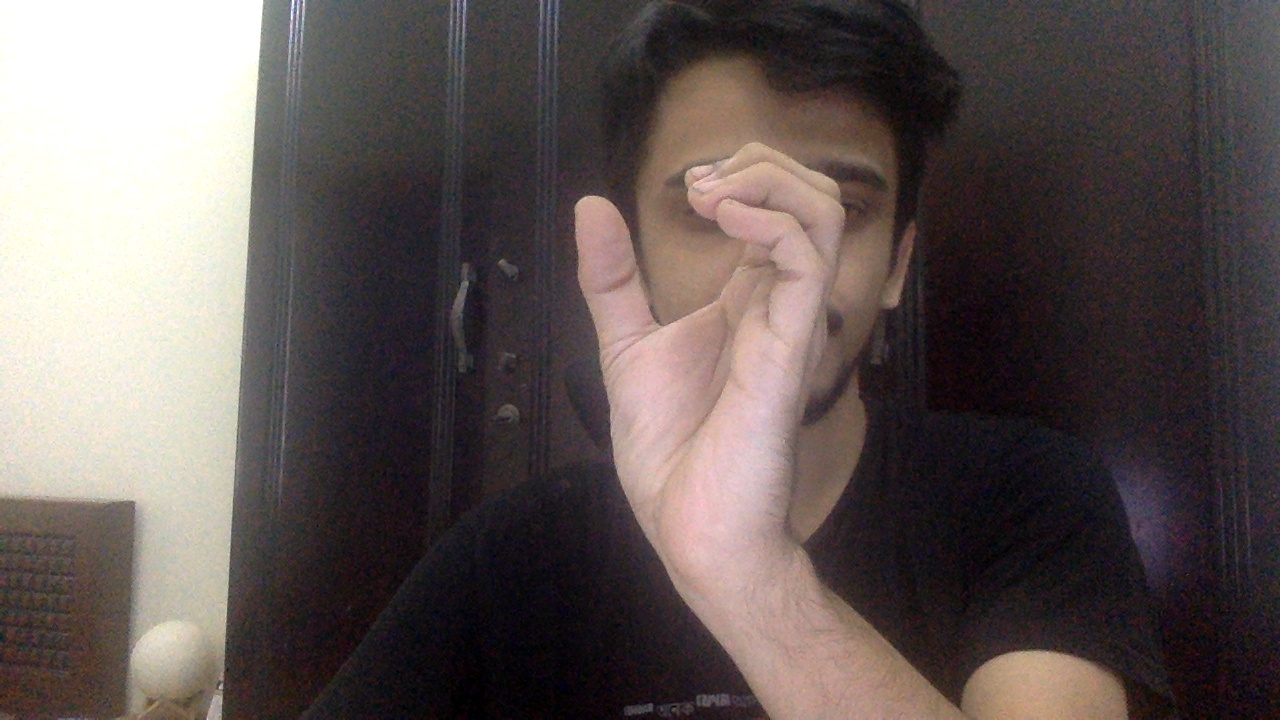zero: (570, 139, 847, 573)
